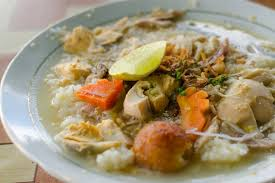soto: (4, 4, 275, 179)
